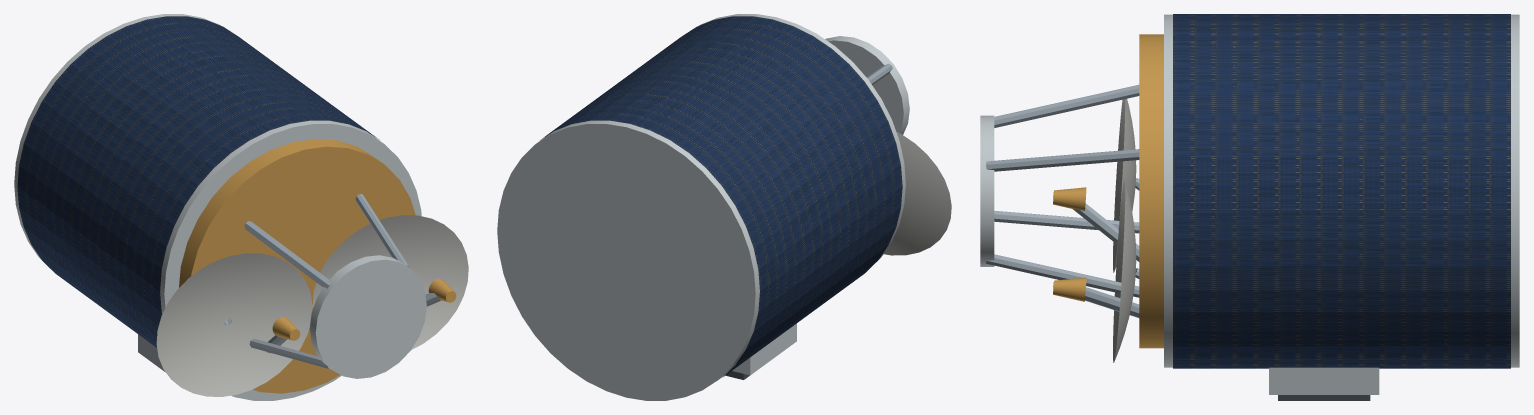
Rendered from ref-hs-335-10143.glb.
The picture shows the model from 3 angles, left to right: view 1: azimuth 30°, elevation 25°; view 2: azimuth 150°, elevation 25°; view 3: azimuth 270°, elevation 25°; orthographic projection. The views are drawn at different scales.
Visible parts, largest first — view 1: Body-mounted solar cells, Deck-mounted reflector (×2), Despun equipment deck, Antenna tower platform, Solar drum core, Antenna tower leg (×3), Feed horn (×2), Radiometer window surround; view 2: Solar drum core, Body-mounted solar cells, Deck-mounted reflector, Antenna tower platform, Radiometer window surround; view 3: Body-mounted solar cells, Despun equipment deck, Solar drum core, Antenna tower leg (×4), Deck-mounted reflector (×2), Radiometer window surround, Antenna tower platform, Offset feed boom (×2), Feed horn (×2), Radiometer viewing port.
Part boxes in pixels (x1,y1,x2,y2): Body-mounted solar cells: (17, 16, 379, 347); Deck-mounted reflector (×2): (156, 215, 468, 396); Despun equipment deck: (179, 139, 415, 393); Antenna tower platform: (309, 255, 426, 378); Solar drum core: (14, 14, 421, 400); Antenna tower leg (×3): (244, 194, 409, 369); Feed horn (×2): (272, 279, 456, 340); Radiometer window surround: (138, 334, 165, 372); Solar drum core: (497, 14, 905, 400); Body-mounted solar cells: (541, 16, 902, 376); Deck-mounted reflector: (884, 131, 951, 255); Antenna tower platform: (825, 36, 909, 134); Radiometer window surround: (732, 323, 796, 375); Body-mounted solar cells: (1173, 14, 1510, 368); Despun equipment deck: (1139, 34, 1163, 348); Solar drum core: (1164, 14, 1519, 367); Antenna tower leg (×4): (986, 85, 1139, 297); Deck-mounted reflector (×2): (1113, 98, 1136, 362); Radiometer window surround: (1269, 367, 1379, 394); Antenna tower platform: (980, 115, 994, 266); Offset feed boom (×2): (1073, 203, 1139, 317); Feed horn (×2): (1053, 187, 1086, 301); Radiometer viewing port: (1278, 395, 1370, 400).
Size of the model in its own units: 2.66 by 2.33 by 3.36.
6 materials, 1 textured.
